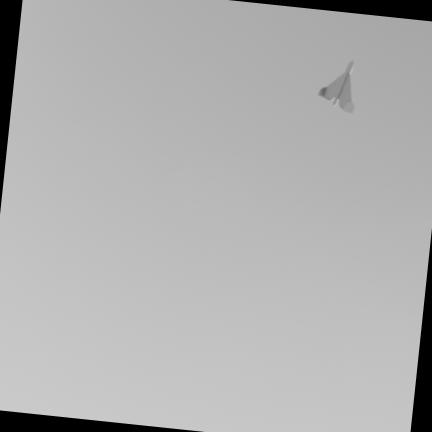Shahed: (318, 61, 353, 113)
